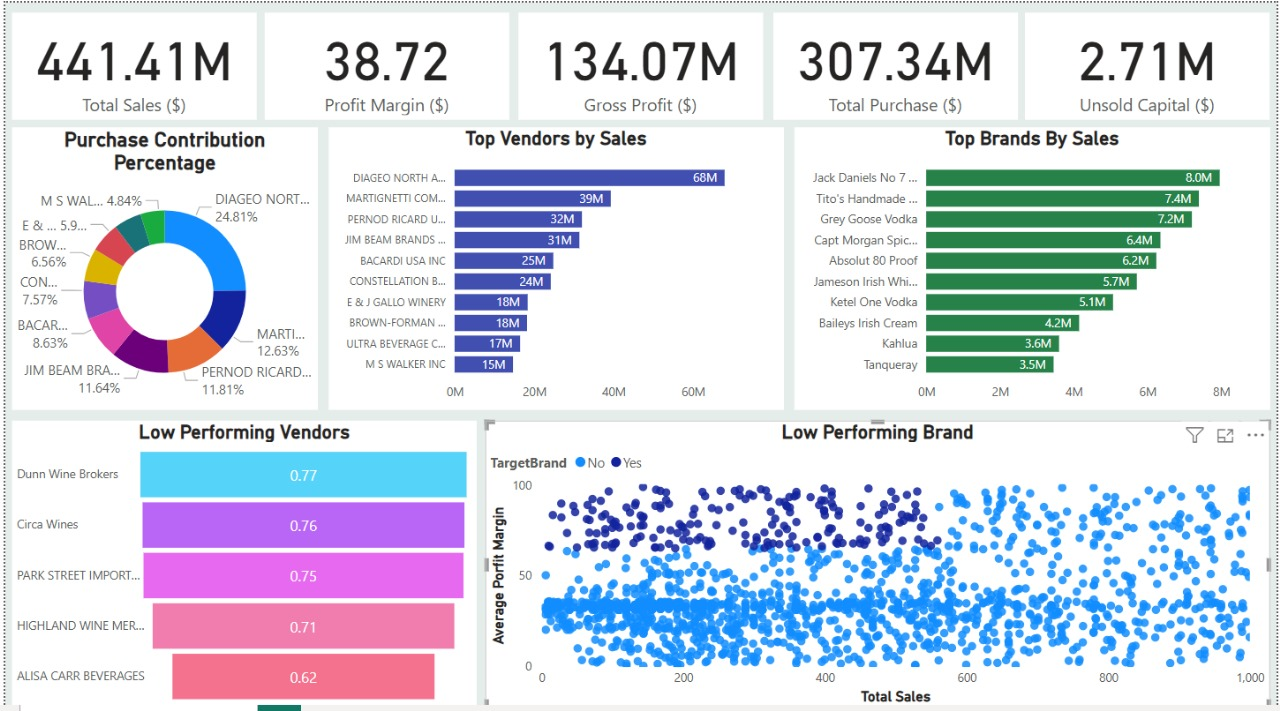

Layout of this report page (visuals, bound fields, positions):
{"tool":"powerbi","page":{"name":"Vendor Performance Dashboard","canvas":[1280,720],"ordinal":0},"visuals":[{"type":"card","fields":{"Values":["Sum(vendor_sales_summary.TotalSalesDollars)"]},"box":[7,10,246,108],"z":0},{"type":"card","fields":{"Values":["Sum(vendor_sales_summary.TotalPurchaseDollars)"]},"box":[773,10,246,108],"z":1000},{"type":"card","fields":{"Values":["Sum(vendor_sales_summary.GrossProfit)"]},"box":[517,10,246,108],"z":2000},{"type":"card","fields":{"Values":["Avg(vendor_sales_summary.ProfitMargin)"]},"box":[261,10,246,108],"z":3000},{"type":"card","fields":{"Values":["Sum(vendor_sales_summary.UnsoldCapital1)"]},"box":[1027,10,246,108],"z":4000},{"type":"donutChart","title":"Purchase Contribution Percentage","fields":{"Y":["Sum(PurchaseContribution.PurchaseContribution%)"],"Category":["PurchaseContribution.VendorName"]},"box":[7,126,308,285],"z":5000},{"type":"barChart","title":"Top Vendors by Sales ","fields":{"Category":["vendor_sales_summary.VendorName"],"Y":["Sum(vendor_sales_summary.TotalSalesDollars)"]},"box":[325,126,458,285],"z":6000},{"type":"barChart","title":"Top Brands By Sales","fields":{"Category":["vendor_sales_summary.Description"],"Y":["Sum(vendor_sales_summary.TotalSalesDollars)"]},"box":[794,126,479,285],"z":7000},{"type":"funnel","title":"Low Performing Vendors","fields":{"Y":["Avg(LowTurnoverVendor.AvgStockTurnOver)"],"Category":["LowTurnoverVendor.VendorName"]},"box":[7,421,468,291],"z":8000},{"type":"scatterChart","title":"Low Performing Brand","fields":{"Category":["BrandPerformance.Description"],"X":["Sum(BrandPerformance.TotalSales)"],"Y":["Sum(BrandPerformance.AvgProfitMargin)"],"Series":["BrandPerformance.TargetBrand"]},"box":[483,421,790,291],"z":9000}]}

Visuals, with their boxes in screenshot pixels (x1, y1, x2, y2), scaled from the page's 1280x720 canvas onto the 1280x711 screenshot:
card - Sum(vendor_sales_summary.TotalSalesDollars): (7,10,253,117)
card - Sum(vendor_sales_summary.TotalPurchaseDollars): (773,10,1019,117)
card - Sum(vendor_sales_summary.GrossProfit): (517,10,763,117)
card - Avg(vendor_sales_summary.ProfitMargin): (261,10,507,117)
card - Sum(vendor_sales_summary.UnsoldCapital1): (1027,10,1273,117)
"Purchase Contribution Percentage" donutChart: (7,124,315,406)
"Top Vendors by Sales " barChart: (325,124,783,406)
"Top Brands By Sales" barChart: (794,124,1273,406)
"Low Performing Vendors" funnel: (7,416,475,703)
"Low Performing Brand" scatterChart: (483,416,1273,703)
